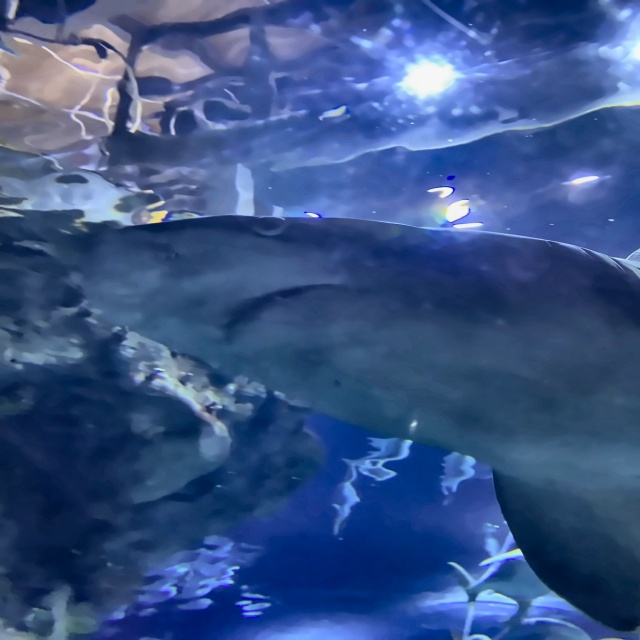fish: (445, 547, 552, 624)
shark: (77, 214, 639, 632)
